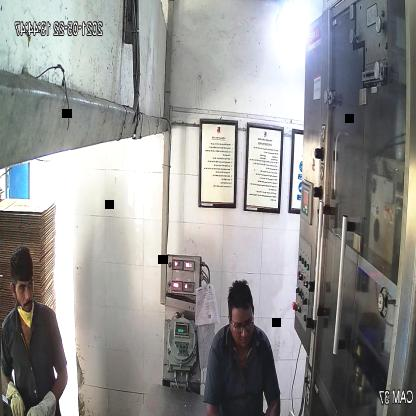goggles: (227, 313, 256, 339)
no_goggles: (12, 277, 36, 297)
